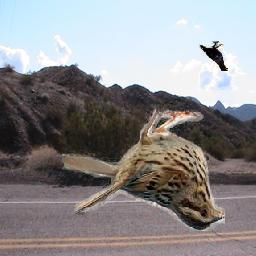Crow: (200, 41, 229, 71)
Sparrow: (61, 95, 225, 231)
